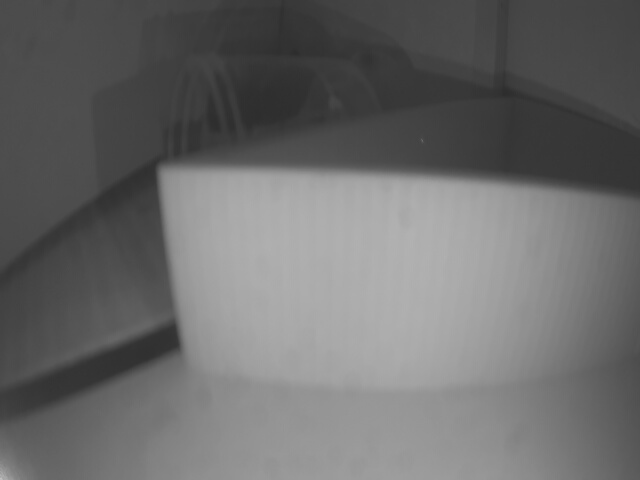Red: (157, 165, 638, 374)
